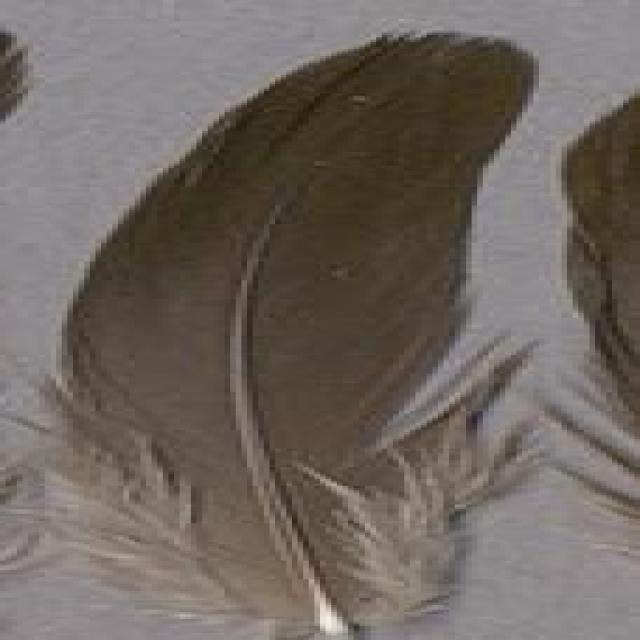feather: (45, 30, 567, 640), (542, 70, 640, 559)
